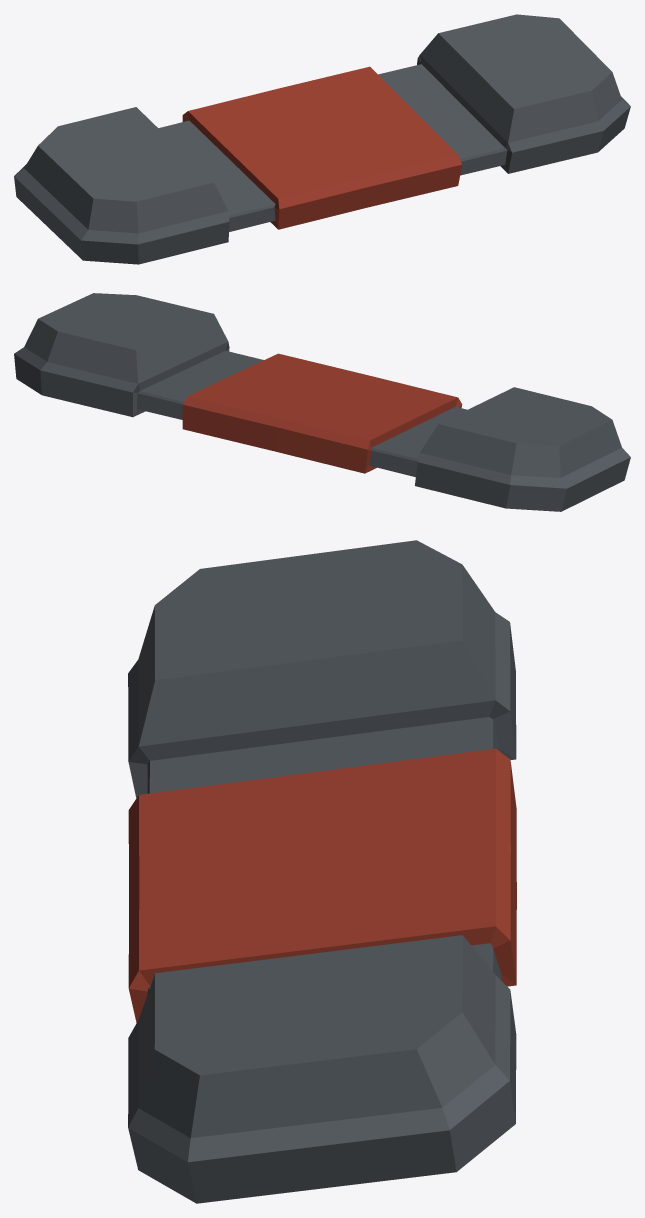
Rendered from Mothership_01_Detail_2_Red.fbx.
3 renders of one model, top to bottom at view 1: azimuth 30°, elevation 25°; view 2: azimuth 150°, elevation 25°; view 3: azimuth 270°, elevation 25°, orthographic. The views are drawn at different scales.
Parts seen in each view (by area): view 1: Mothership_01_Detail_2_Red; view 2: Mothership_01_Detail_2_Red; view 3: Mothership_01_Detail_2_Red.
Part boxes in pixels (x1,y1,x2,y2): Mothership_01_Detail_2_Red: [14, 14, 630, 264]; Mothership_01_Detail_2_Red: [14, 293, 630, 511]; Mothership_01_Detail_2_Red: [128, 540, 516, 1203].
Bounding box in the file's own units: 1299 × 178 × 395.
1 material, 1 textured.
